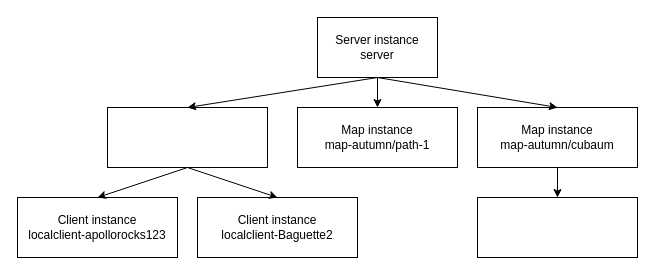
Some shapes in this 655 by 275 pixel diagram are drawn without their labels. The centre of each missing label's shape, as x and y in pixels:
Client instance localclient-myfancyusername: point (557, 227)
Map instance map-autumn/entrance: point (187, 137)
